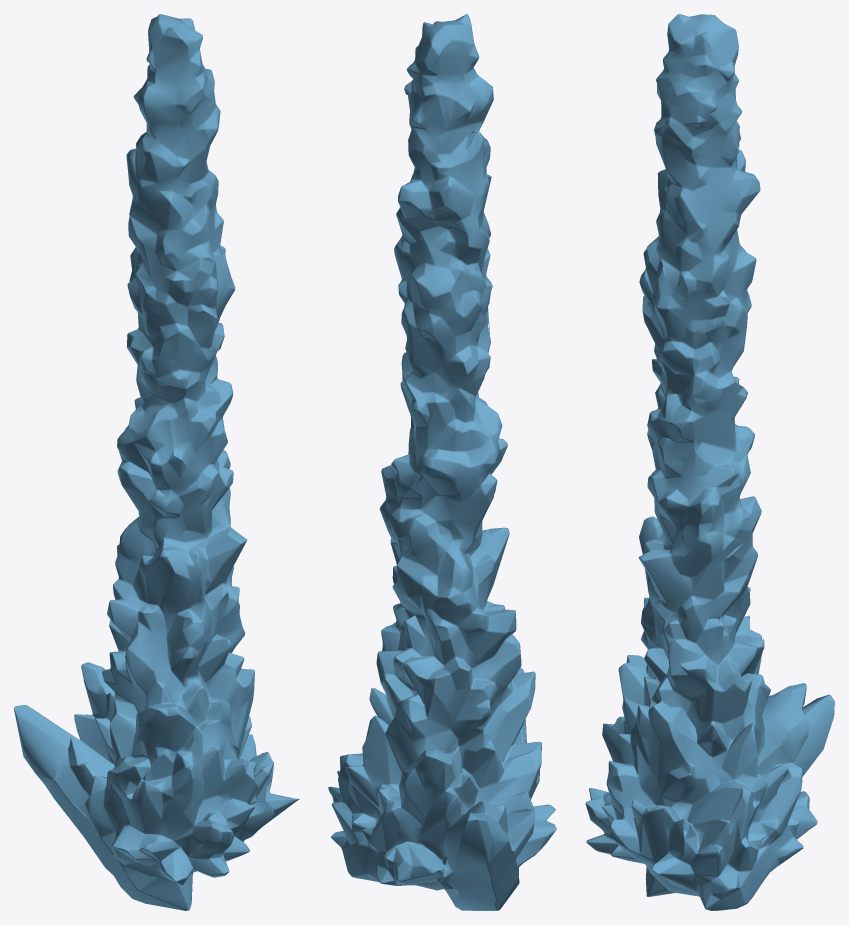
File: hvs_crystal_medium02.fbx
The picture shows the model from 3 angles, left to right: view 1: azimuth 30°, elevation 25°; view 2: azimuth 150°, elevation 25°; view 3: azimuth 270°, elevation 25°; orthographic projection. The views are drawn at different scales.
Visible parts, largest first — view 1: hvs_crystal_medium02; view 2: hvs_crystal_medium02; view 3: hvs_crystal_medium02.
Boxes of the visible parts, x1,y1,x2,y2 form: hvs_crystal_medium02: [14, 14, 299, 910]; hvs_crystal_medium02: [328, 14, 556, 910]; hvs_crystal_medium02: [585, 14, 834, 910].
Size of the model in its own units: 7.25 by 29.65 by 7.57.
